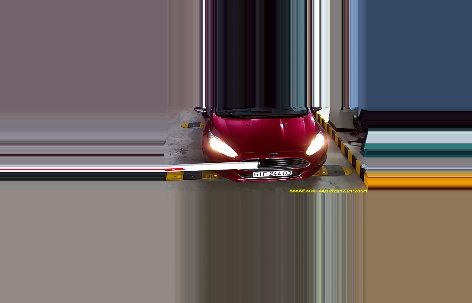plate: (248, 170, 295, 180)
